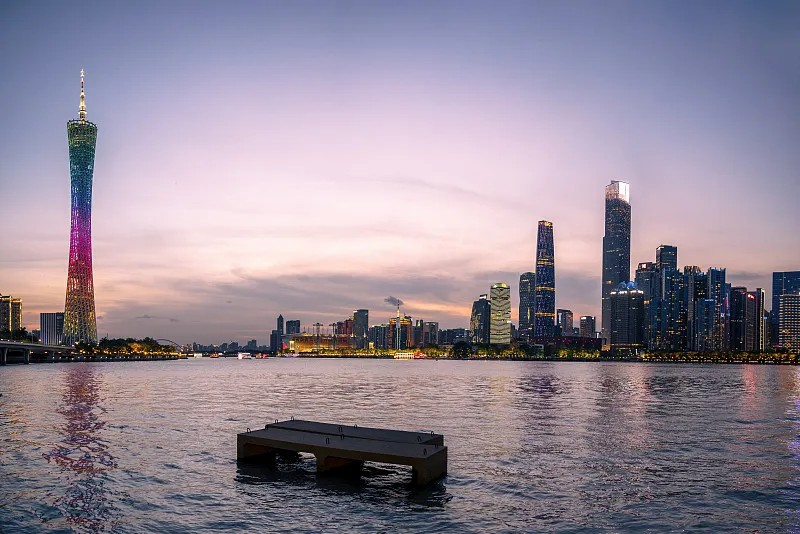Canton: (62, 66, 98, 350)
